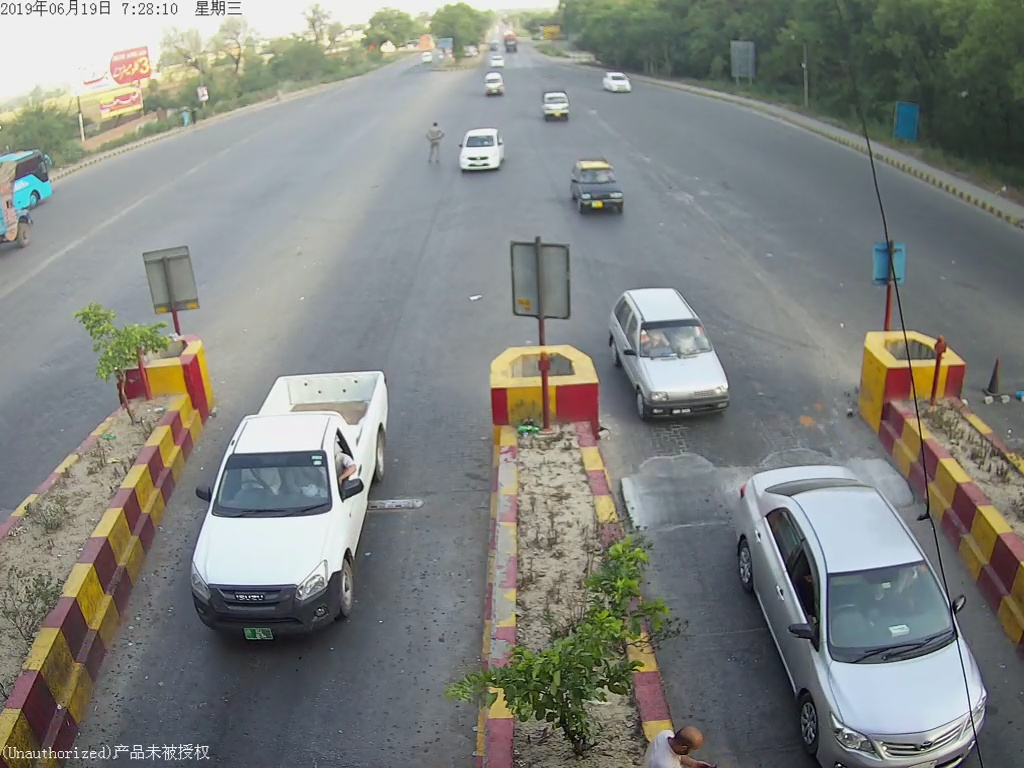Cat-1: (718, 457, 982, 761), (184, 343, 395, 640), (609, 283, 733, 421), (564, 155, 631, 214), (457, 122, 505, 172)
